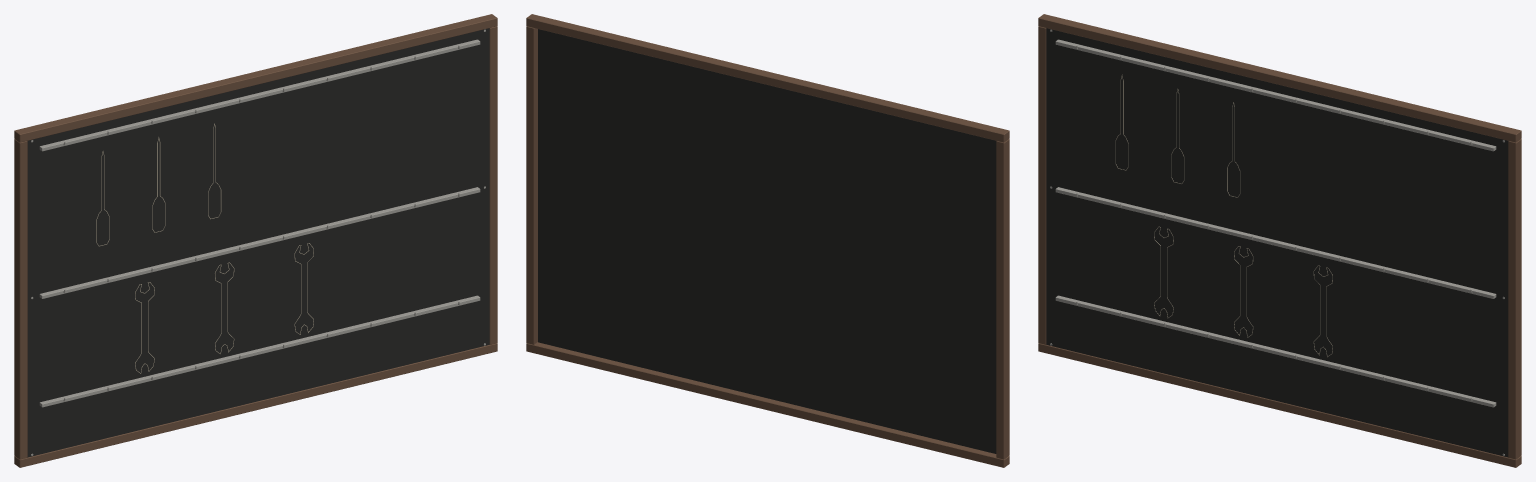
File: pegboard-21b1030a0452.glb
3 views of the same model, side by side, from view 1: azimuth 30°, elevation 25°; view 2: azimuth 150°, elevation 25°; view 3: azimuth 330°, elevation 25° (orthographic).
Visible parts, largest first — view 1: grille-mesh, wood, brushed, paper; view 2: grille-mesh, wood; view 3: grille-mesh, wood, brushed, paper.
Part boxes in pixels (<box>): grille-mesh: <box>27,28,489,457</box>; wood: <box>14,14,497,467</box>; brushed: <box>31,29,485,455</box>; paper: <box>96,123,313,373</box>; grille-mesh: <box>538,29,996,453</box>; wood: <box>526,14,1009,467</box>; grille-mesh: <box>1046,28,1508,457</box>; wood: <box>1038,14,1521,467</box>; brushed: <box>1050,29,1504,455</box>; paper: <box>1115,74,1332,357</box>.
Size of the model in its own units: 1.2 by 0.8 by 0.0395.
